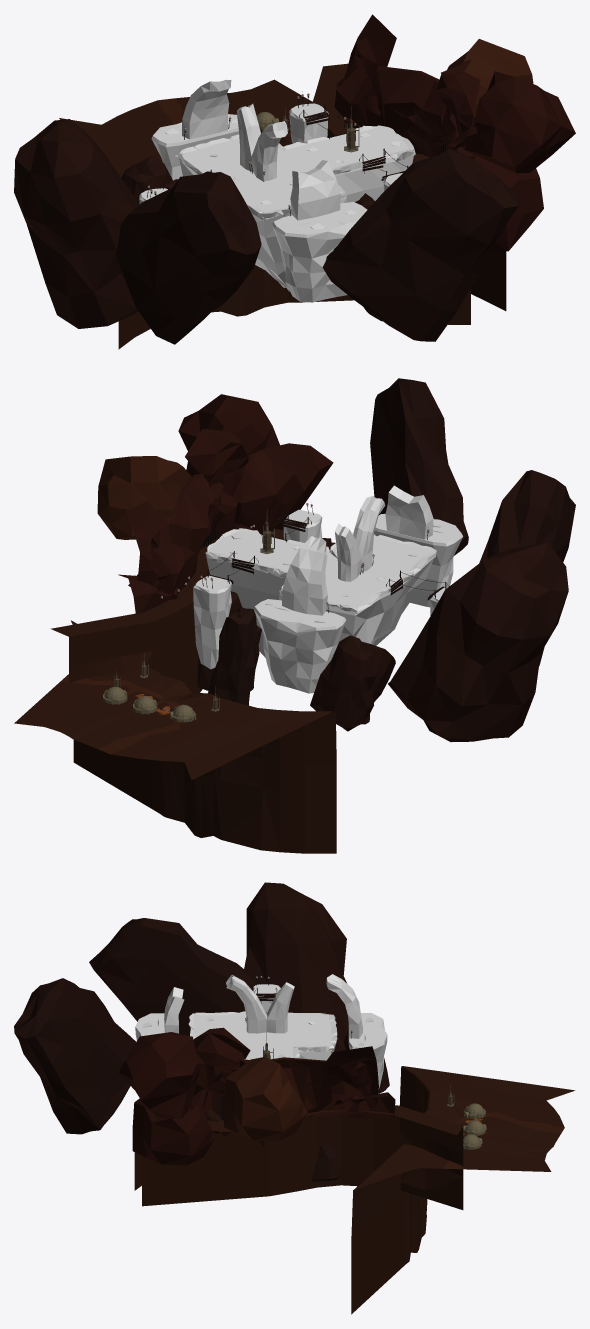
Rendered from Room_2.fbx.
3 views of the same model, one above another, from view 1: azimuth 30°, elevation 25°; view 2: azimuth 150°, elevation 25°; view 3: azimuth 270°, elevation 25° (orthographic). The views are drawn at different scales.
Visible parts, largest first — view 1: Decoration_Rocks_And_Dessert, BackScenario, Lateral_Platforms, Central, Exterior_Plaforms, Puentes, AntennaHouses; view 2: Decoration_Rocks_And_Dessert, BackScenario, Lateral_Platforms, Central, Exterior_Plaforms, AntennaHouses, Puentes; view 3: Decoration_Rocks_And_Dessert, BackScenario, Lateral_Platforms, Central, AntennaHouses.
Part boxes in pixels (x1=…): Decoration_Rocks_And_Dessert: x1=14, y1=63, x2=519, y2=349; BackScenario: x1=334, y1=14, x2=575, y2=251; Lateral_Platforms: x1=151, y1=79, x2=367, y2=302; Central: x1=175, y1=125, x2=415, y2=291; Exterior_Plaforms: x1=139, y1=103, x2=402, y2=203; Puentes: x1=160, y1=104, x2=408, y2=189; AntennaHouses: x1=256, y1=105, x2=359, y2=152; Decoration_Rocks_And_Dessert: x1=14, y1=378, x2=575, y2=853; BackScenario: x1=97, y1=394, x2=333, y2=614; Lateral_Platforms: x1=253, y1=485, x2=462, y2=693; Central: x1=205, y1=528, x2=436, y2=657; Exterior_Plaforms: x1=193, y1=509, x2=446, y2=669; AntennaHouses: x1=103, y1=509, x2=274, y2=722; Puentes: x1=204, y1=512, x2=449, y2=600; Decoration_Rocks_And_Dessert: x1=14, y1=882, x2=575, y2=1314; BackScenario: x1=118, y1=1027, x2=395, y2=1165; Lateral_Platforms: x1=135, y1=974, x2=387, y2=1089; Central: x1=188, y1=1011, x2=337, y2=1060; AntennaHouses: x1=263, y1=1032, x2=486, y2=1149.
Size of the model in its own units: 68.44 by 43.66 by 82.31.
